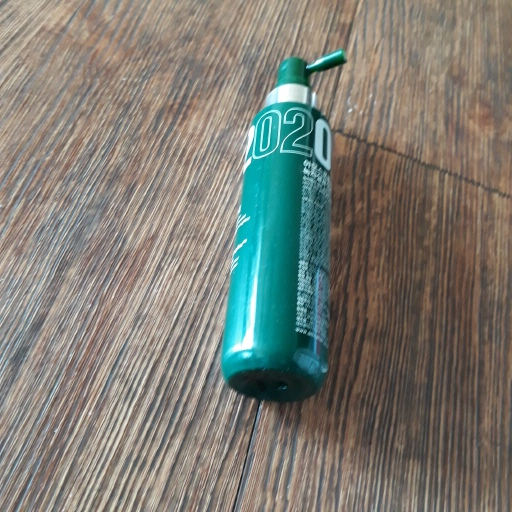Plastic_3: (223, 49, 351, 402)
